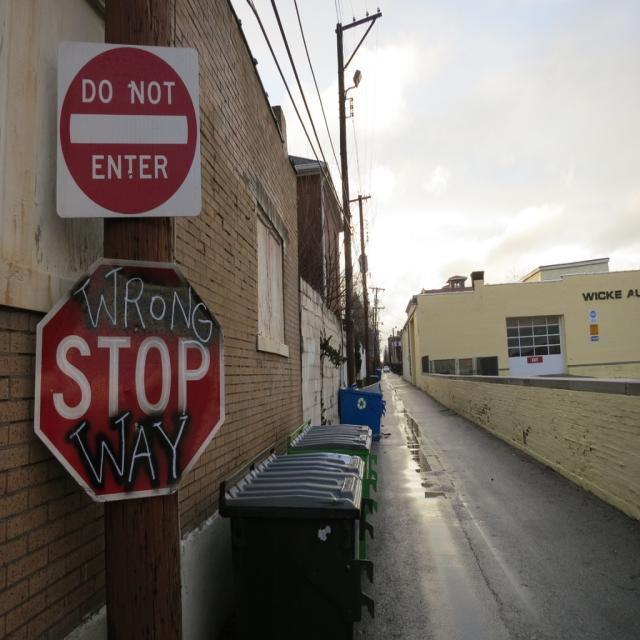Stop-sign: (34, 256, 225, 504)
